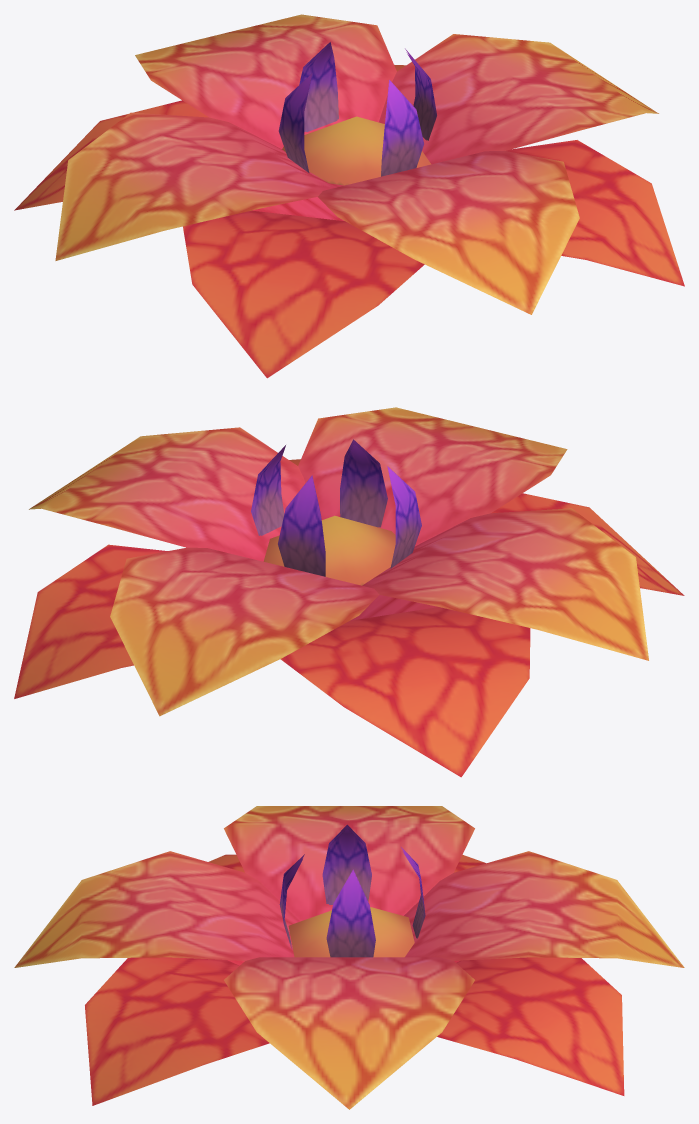
The model's file is swamp_flower_1.FBX.
The picture shows the model from 3 angles, top to bottom: view 1: azimuth 30°, elevation 25°; view 2: azimuth 150°, elevation 25°; view 3: azimuth 270°, elevation 25°; orthographic projection. The views are drawn at different scales.
Visible parts, largest first — view 1: Object021; view 2: Object021; view 3: Object021.
Boxes of the visible parts, <box> form: Object021: <box>14,14,684,378</box>; Object021: <box>14,407,684,777</box>; Object021: <box>14,806,684,1109</box>.
Size of the model in its own units: 1.37 by 1.37 by 0.379.
